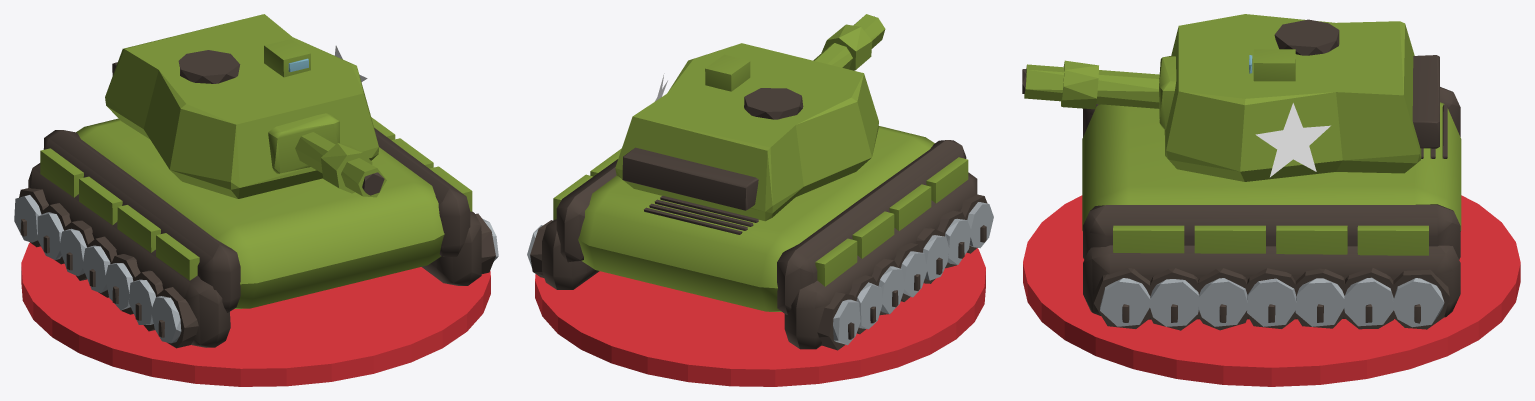
File: usa_tank_lod0.glb
3 views of the same model, side by side, from view 1: azimuth 30°, elevation 25°; view 2: azimuth 150°, elevation 25°; view 3: azimuth 270°, elevation 25° (orthographic). The views are drawn at different scales.
Parts seen in each view (by area): view 1: body_hull, base_pedestal; view 2: body_hull, base_pedestal; view 3: body_hull, base_pedestal.
Part boxes in pixels (left/top/right/bottom): body_hull: left=14, top=14, right=498, bottom=348; base_pedestal: left=21, top=242, right=490, bottom=386; body_hull: left=527, top=14, right=993, bottom=350; base_pedestal: left=535, top=248, right=985, bottom=386; body_hull: left=1022, top=14, right=1461, bottom=330; base_pedestal: left=1023, top=195, right=1520, bottom=386.
Bounding box in the file's own units: 0.7791 × 0.4188 × 0.78.
